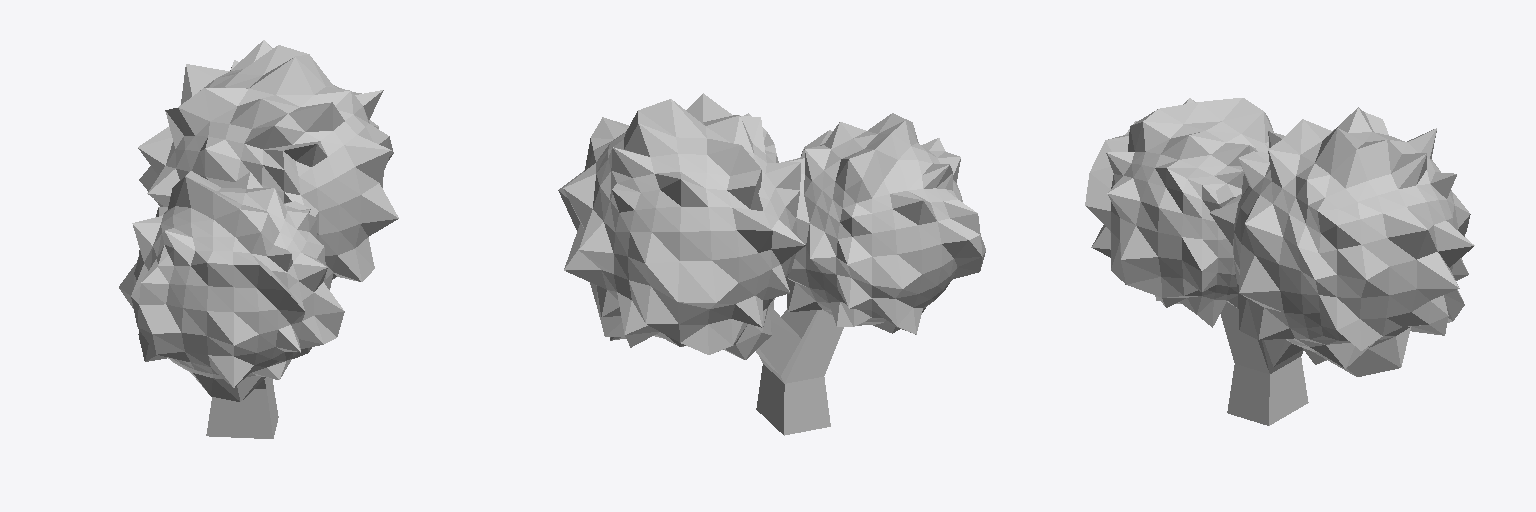
Rendered from tree.obj.
The picture shows the model from 3 angles: view 1: azimuth 30°, elevation 25°; view 2: azimuth 150°, elevation 25°; view 3: azimuth 270°, elevation 25°; orthographic projection.
Parts seen in each view (by area): view 1: tree; view 2: tree; view 3: tree.
Boxes of the visible parts, <box> form: tree: <box>119,40,398,438</box>; tree: <box>558,93,985,435</box>; tree: <box>1085,98,1474,425</box>.
Bounding box in the file's own units: 5.39 × 5 × 5.47.